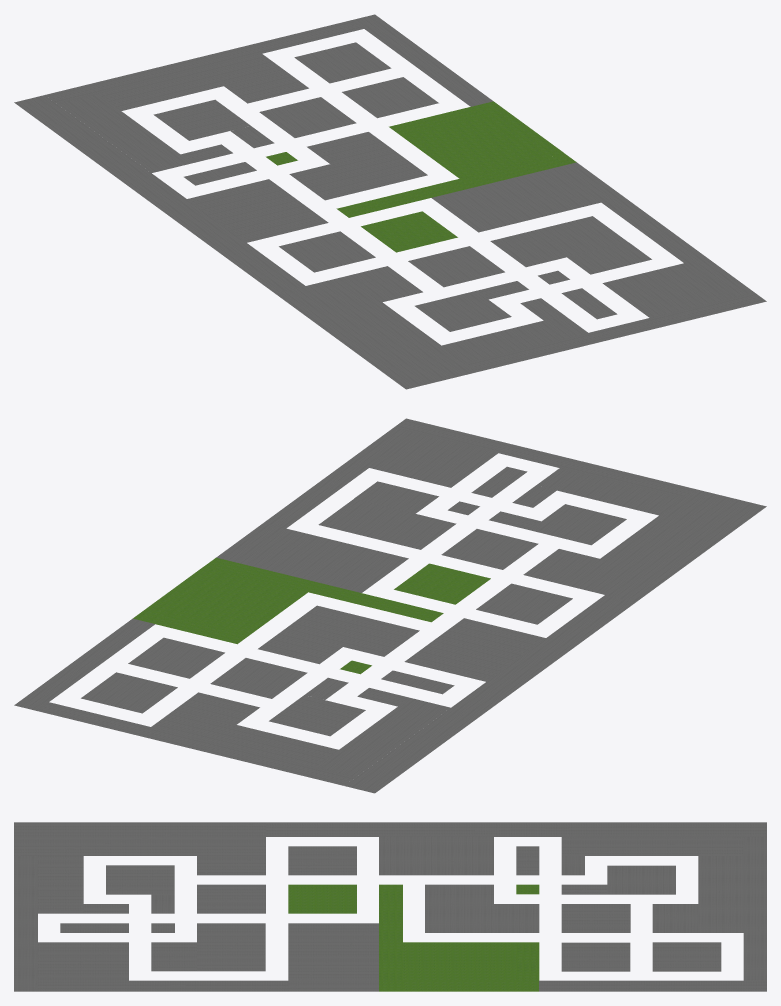
Rendered from Floor_path_road.fbx.
The picture shows the model from 3 angles, top to bottom: view 1: azimuth 30°, elevation 25°; view 2: azimuth 150°, elevation 25°; view 3: azimuth 270°, elevation 25°; orthographic projection. The views are drawn at different scales.
Parts seen in each view (by area): view 1: Floor_path_road; view 2: Floor_path_road; view 3: Floor_path_road.
Part boxes in pixels (x1,y1,x2,y2): Floor_path_road: (14, 14, 766, 389); Floor_path_road: (14, 418, 766, 793); Floor_path_road: (14, 822, 766, 991).
Bounding box in the file's own units: 263 × 0.0259 × 495.
